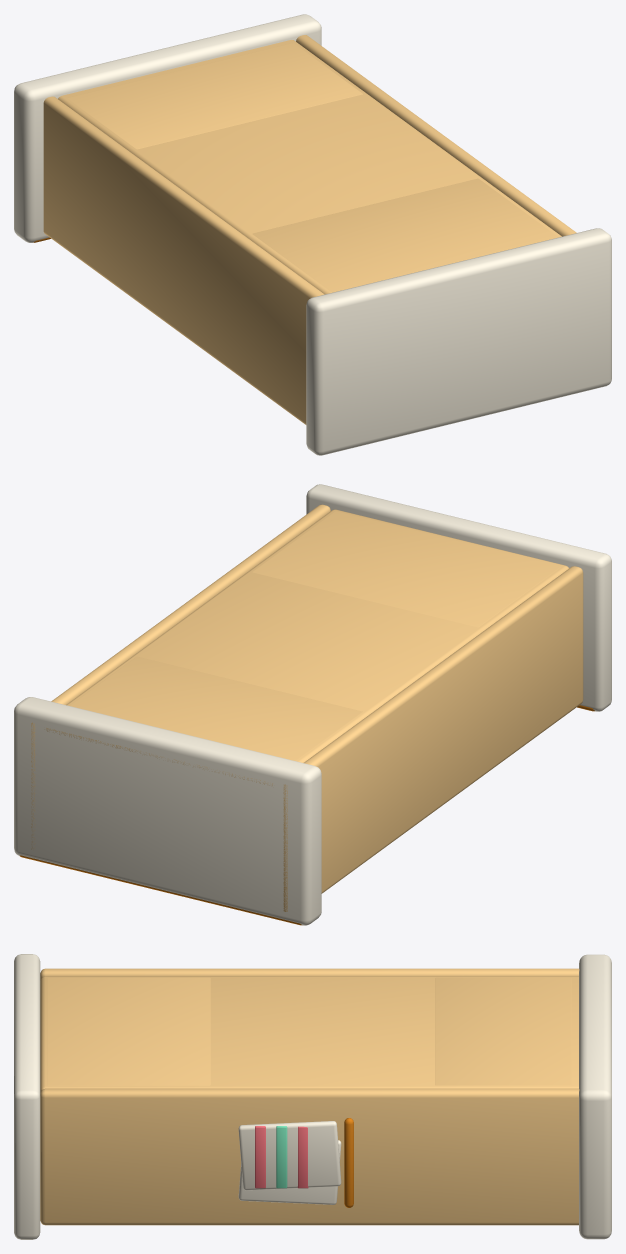
The model's file is BathroomTowelStorage_Premium.fbx.
3 views of the same model, one above another, from view 1: azimuth 30°, elevation 25°; view 2: azimuth 150°, elevation 25°; view 3: azimuth 270°, elevation 25° (orthographic). The views are drawn at different scales.
Parts seen in each view (by area): view 1: BathroomTowelStorage; view 2: BathroomTowelStorage; view 3: BathroomTowelStorage.
Part boxes in pixels (x1,y1,x2,y2): BathroomTowelStorage: [14, 14, 611, 455]; BathroomTowelStorage: [14, 484, 611, 925]; BathroomTowelStorage: [14, 954, 611, 1239].
Bounding box in the file's own units: 1.02 × 0.5 × 1.82.
